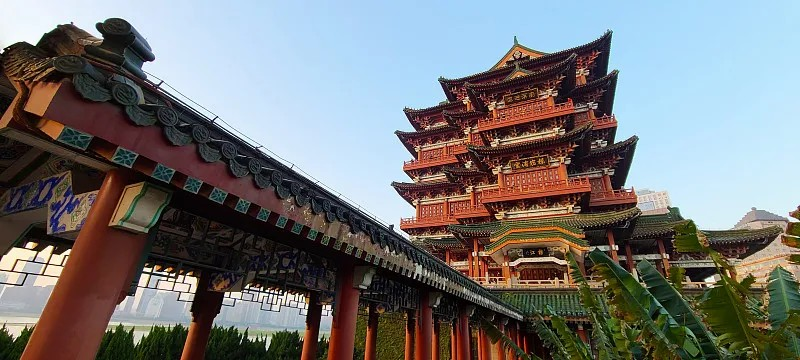Teng: (391, 28, 678, 285)
